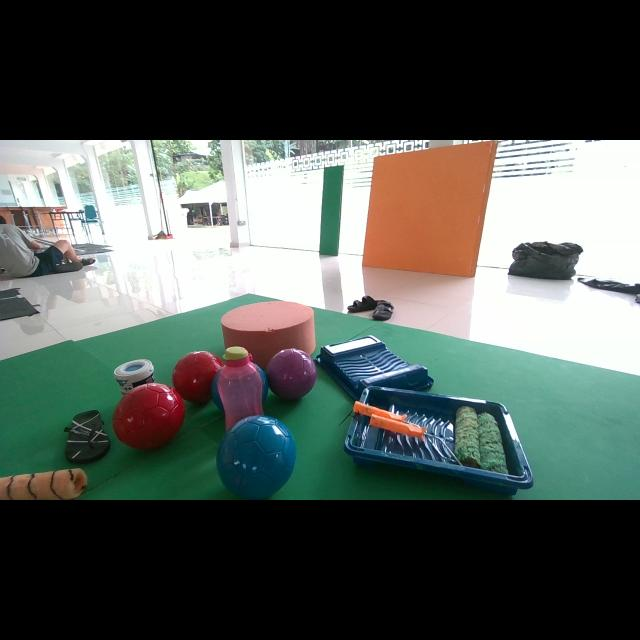B: (216, 415, 296, 499), (255, 364, 269, 403), (255, 364, 269, 402), (211, 371, 224, 411)
P: (266, 349, 316, 400)
R: (112, 382, 185, 449), (172, 351, 224, 404)
